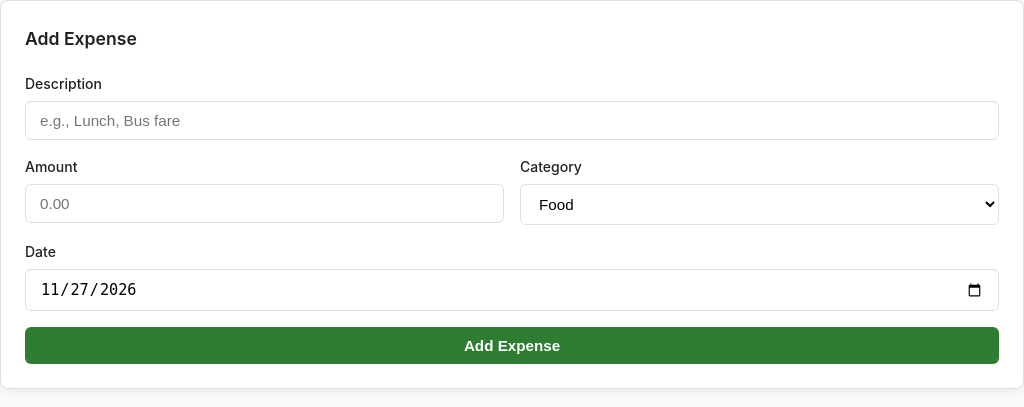
ExpenseForm › submits entered values and resets the form
Type "Coffee" into the field labelled "Description" at (512, 121), box [25,101,999,140]
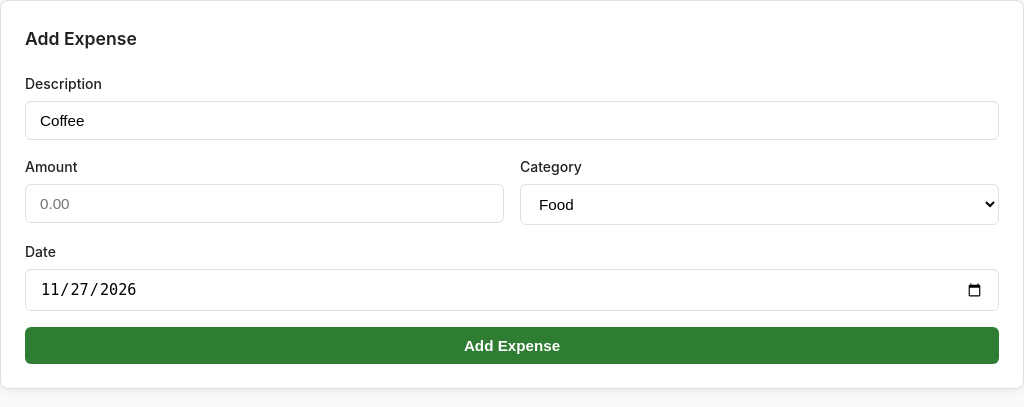
Type "4.25" into the number field labelled "Amount" at (264, 204), box [25,184,504,223]
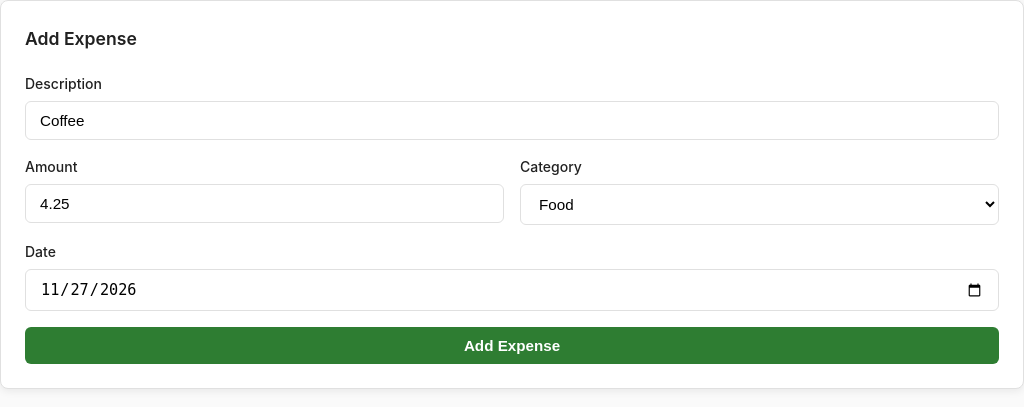
Select "Other" in the dropdown labelled "Category" at (760, 205), box [520,184,999,225]
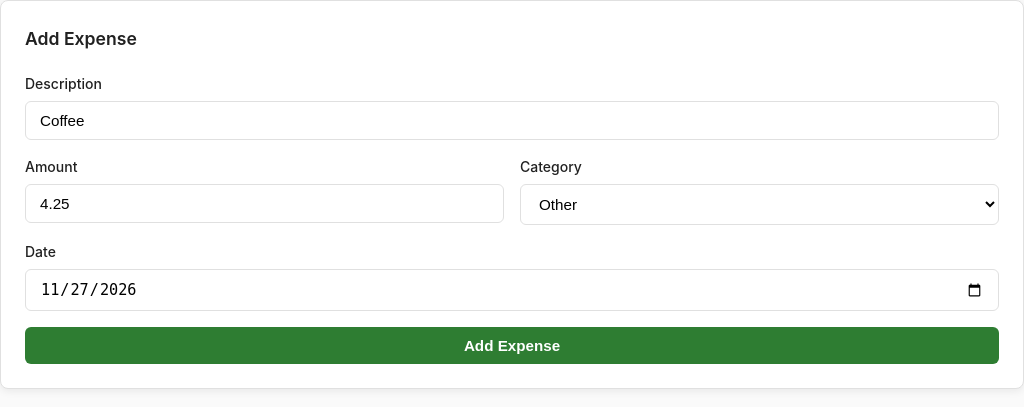
Type "2024-01-10" into the date field labelled "Date" at (512, 290), box [25,269,999,311]
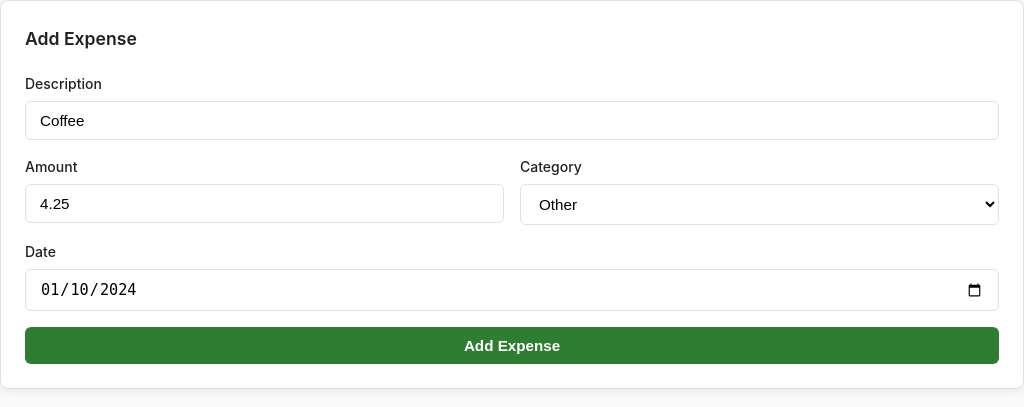
Submit the form "Add Expense"
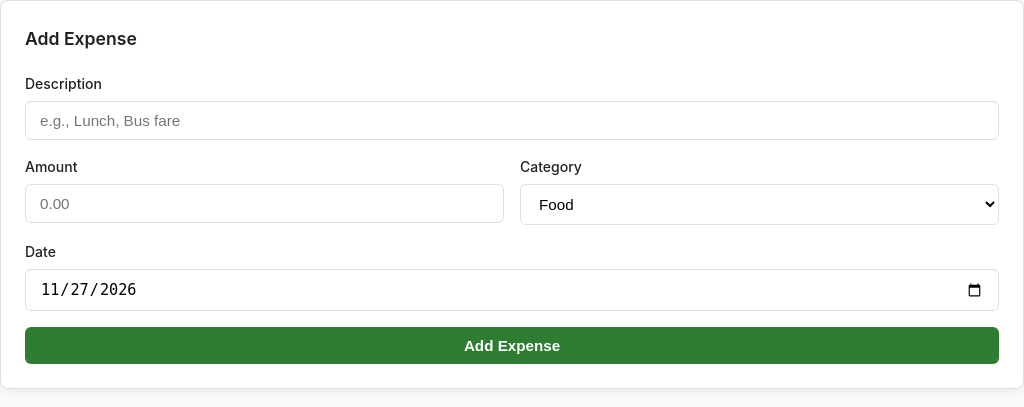
Expected: the field labelled "Description" is empty, [25,101,999,140]
Expected: the number field labelled "Amount" is not empty, [25,184,504,223]
